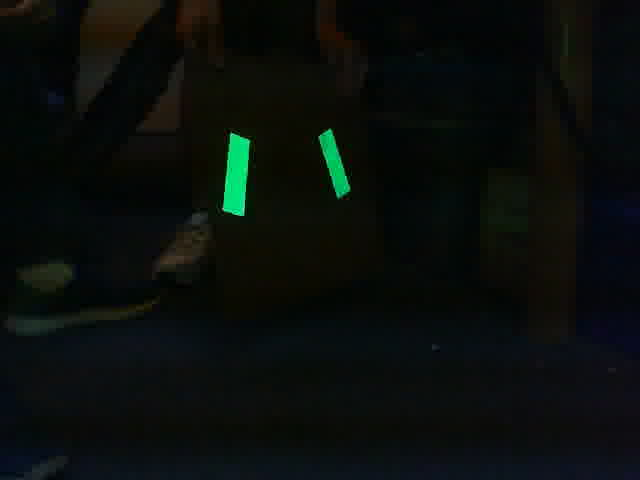target: (222, 127, 353, 218)
